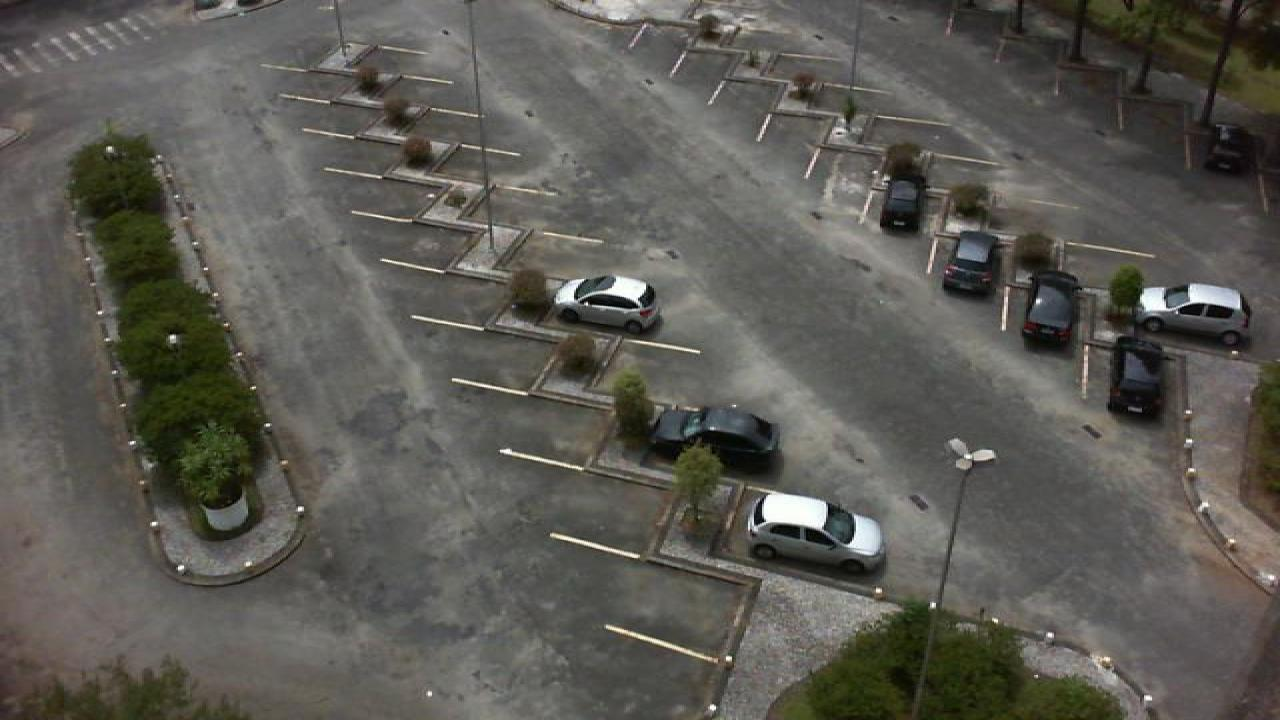Car: (748, 492, 886, 576), (648, 405, 782, 471), (1132, 282, 1256, 346), (550, 274, 664, 334), (1106, 334, 1170, 419), (1020, 268, 1082, 343), (940, 230, 1006, 294), (878, 174, 932, 236), (1200, 118, 1256, 174)
